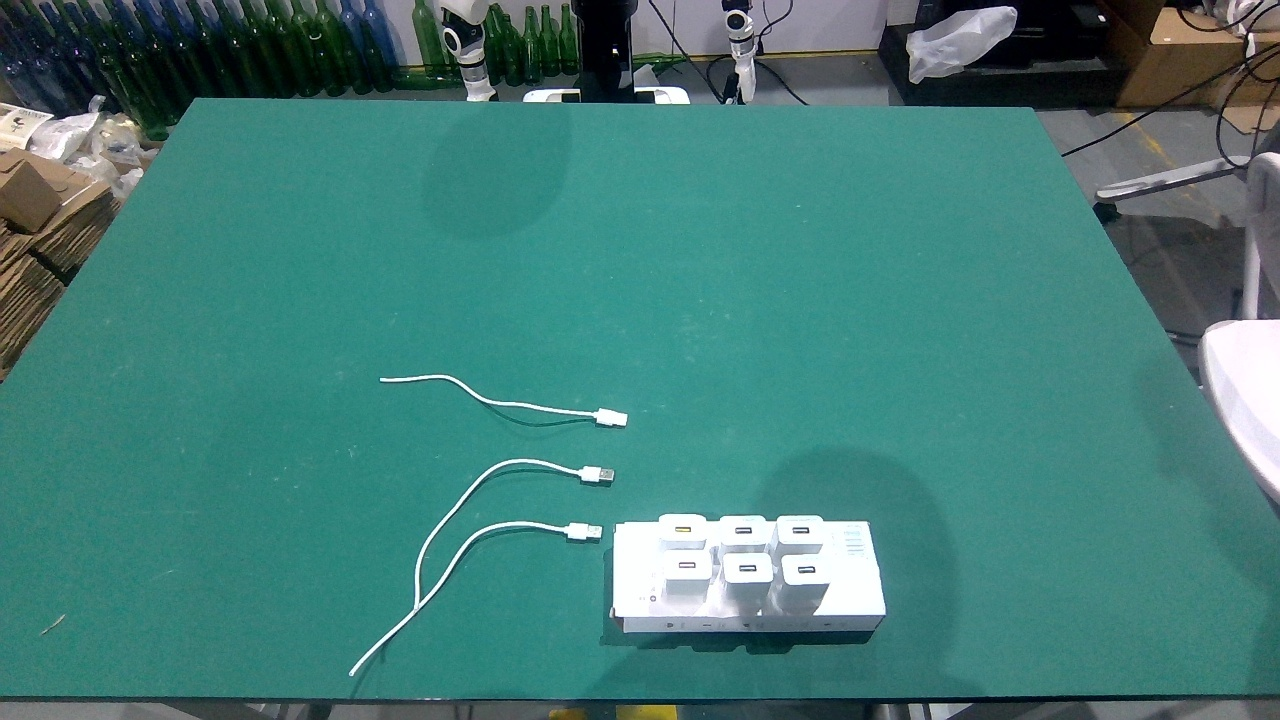usb_a_plug: (555, 460, 626, 488), (545, 520, 610, 541), (577, 407, 635, 428)
